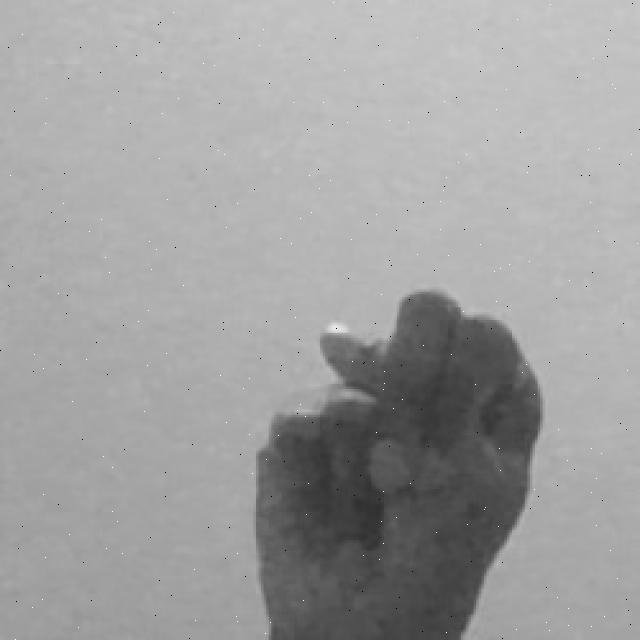N: (246, 283, 554, 640)
